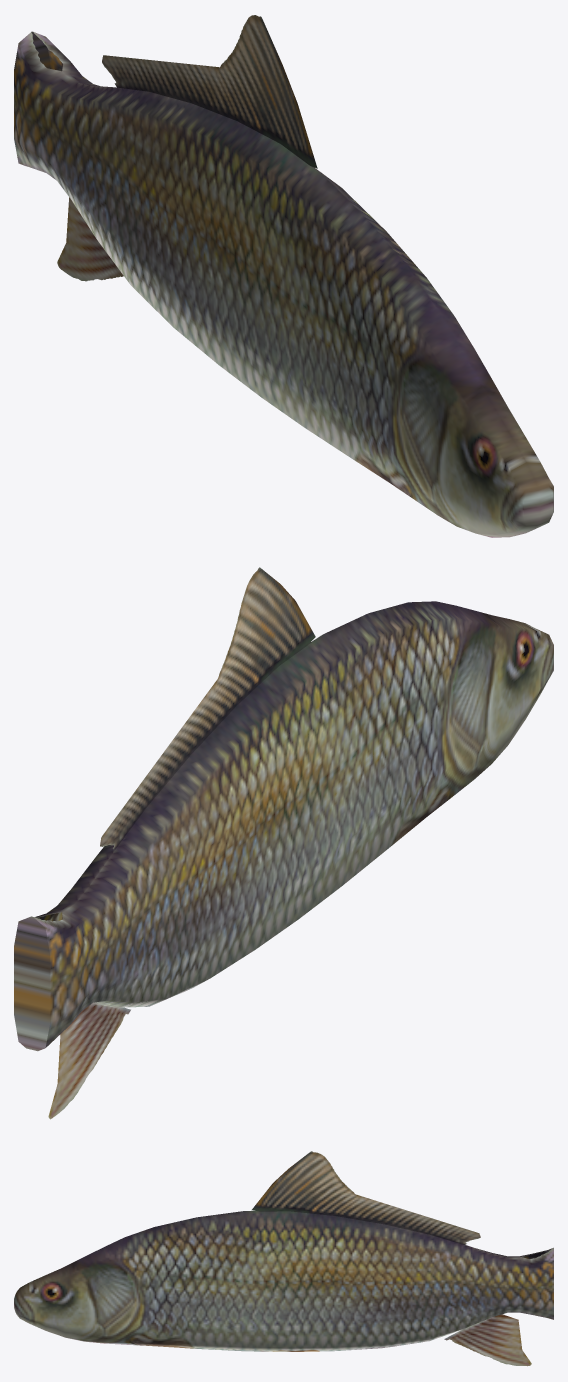
Rendered from CuerpoPezCafe.obj.
3 views of the same model, one above another, from view 1: azimuth 30°, elevation 25°; view 2: azimuth 150°, elevation 25°; view 3: azimuth 270°, elevation 25° (orthographic). The views are drawn at different scales.
Parts seen in each view (by area): view 1: Cuerpo; view 2: Cuerpo; view 3: Cuerpo.
Boxes of the visible parts, x1=… form: Cuerpo: x1=14, y1=15, x2=553, y2=537; Cuerpo: x1=14, y1=567, x2=553, y2=1119; Cuerpo: x1=14, y1=1151, x2=553, y2=1366.
Size of the model in its own units: 1.22 by 9.33 by 21.08.
1 material, 1 textured.
